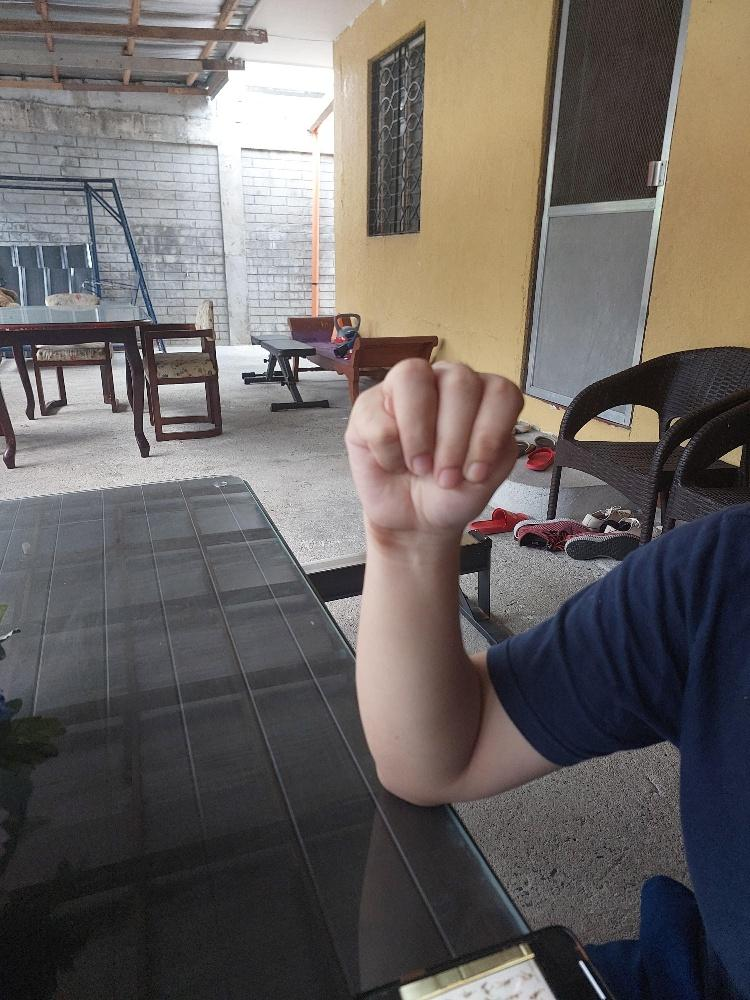m: (340, 353, 526, 548)
